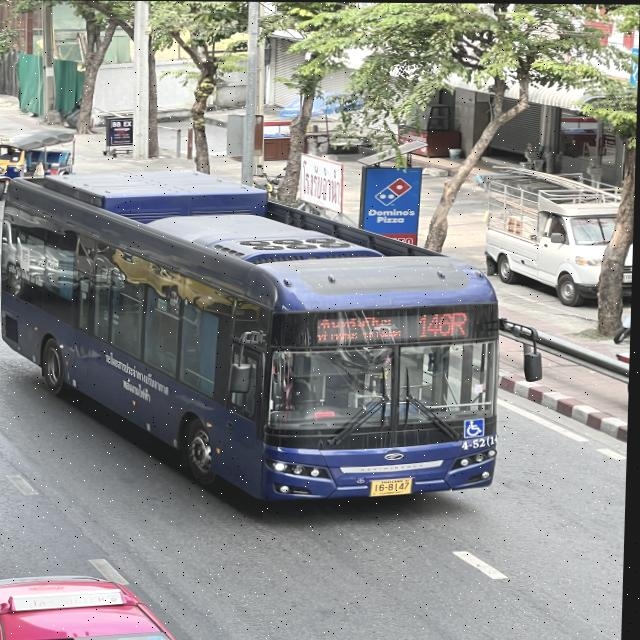Bus-Line-Number: (417, 307, 472, 340)
Destination-Sign-Normal: (317, 316, 405, 341)
TSB-Bus: (0, 172, 508, 508)
